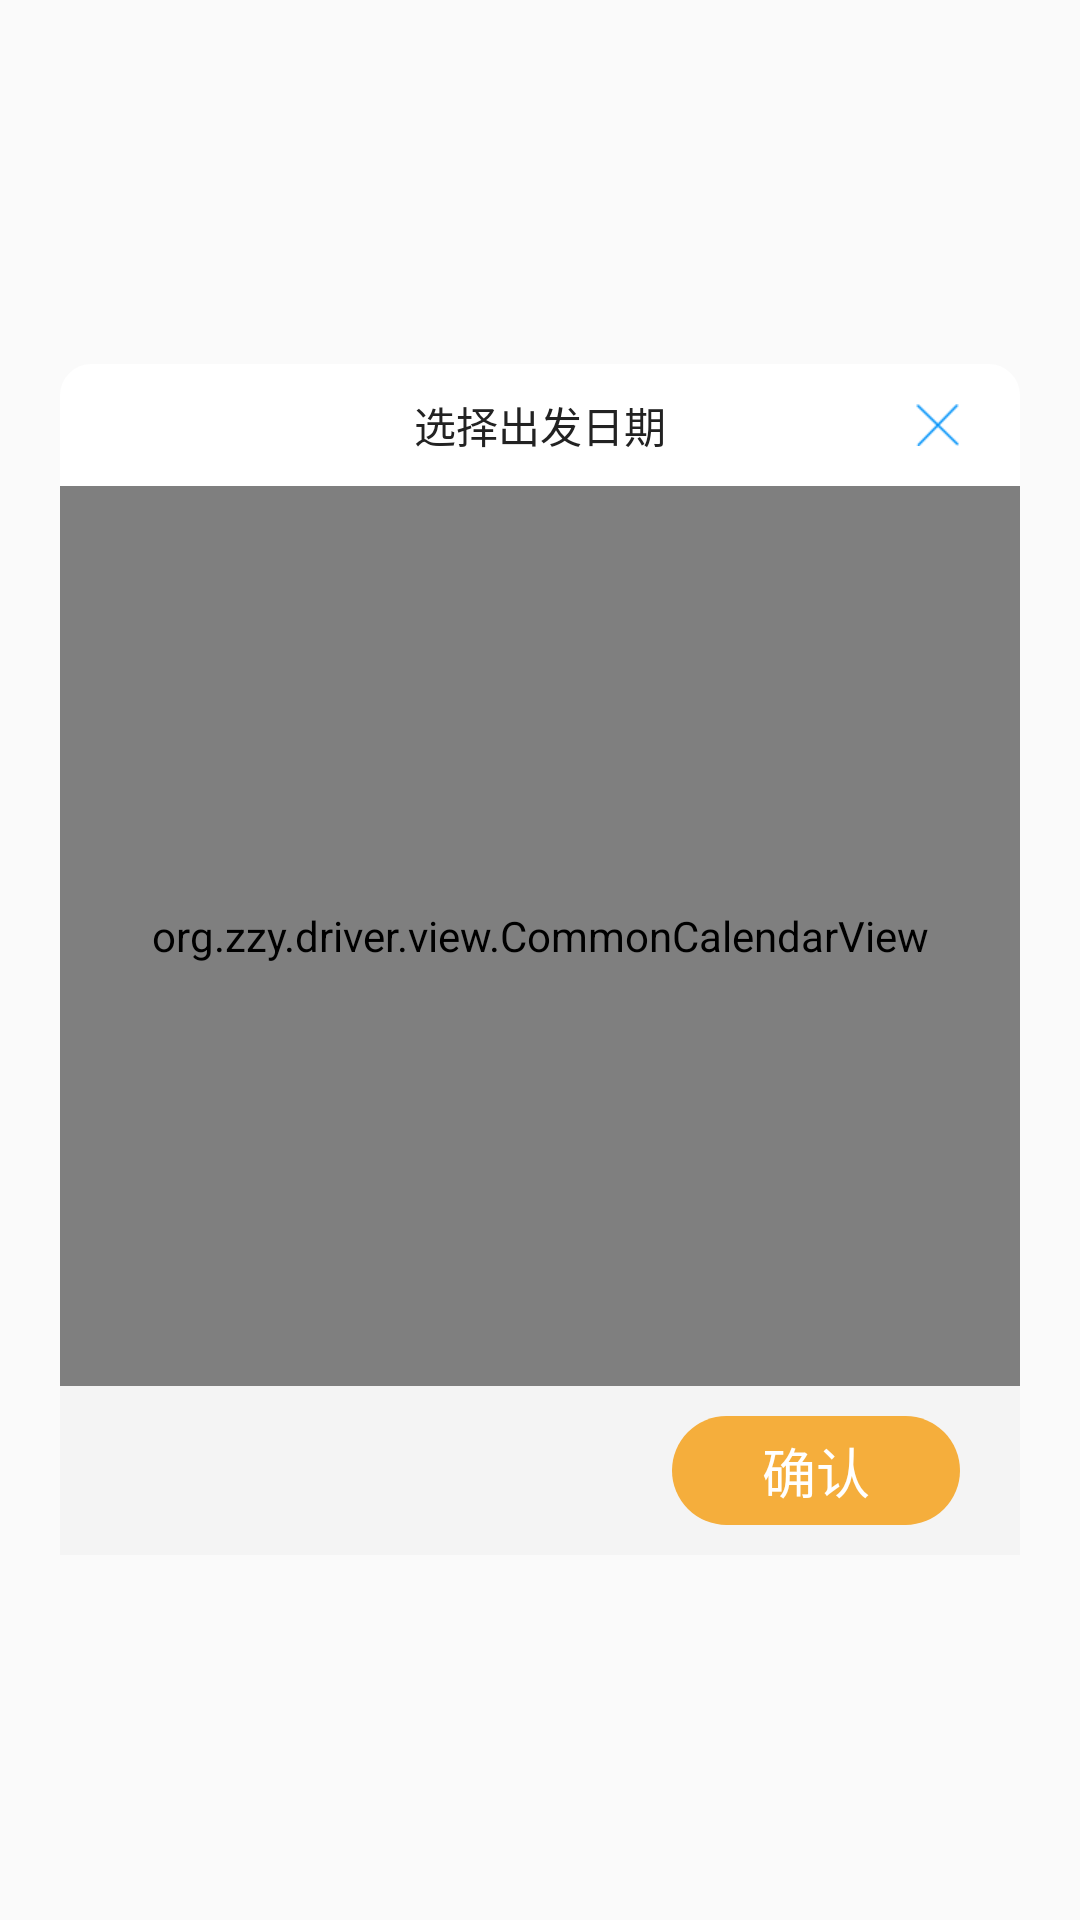

Point at icon controls on the screen. Image size 1080w x 1920h, points as (x,y).
close: (937,425)
